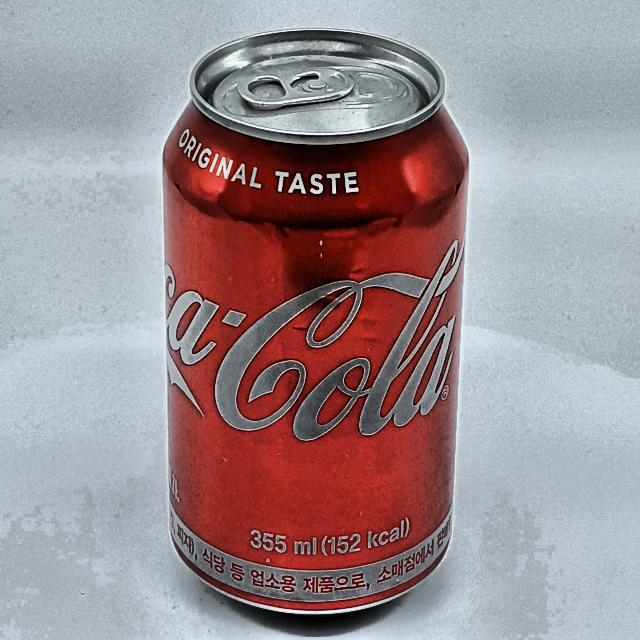cocacola: (154, 28, 466, 615)
